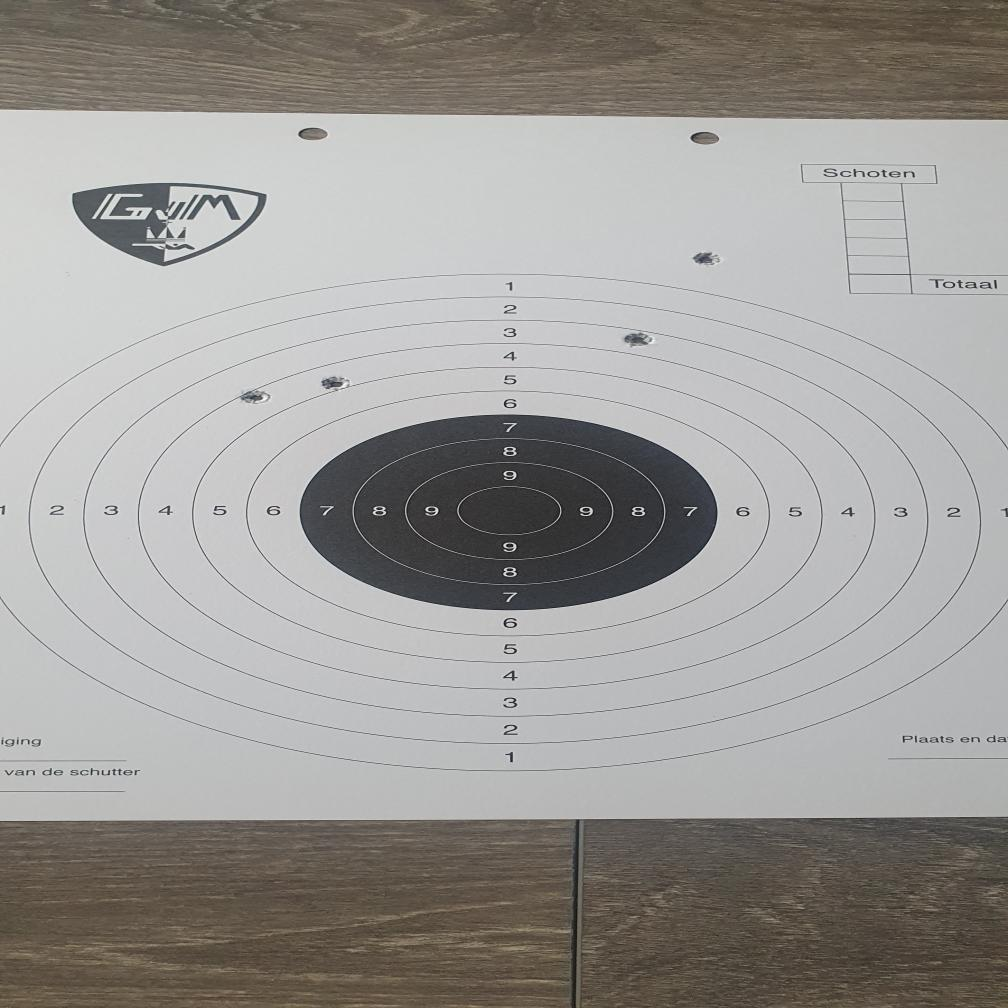0: (691, 251, 723, 268)
3: (618, 330, 658, 349)
4: (238, 389, 272, 405)
5: (317, 376, 352, 392)
Target: (0, 271, 1007, 775)
black_contour: (299, 413, 718, 611)
